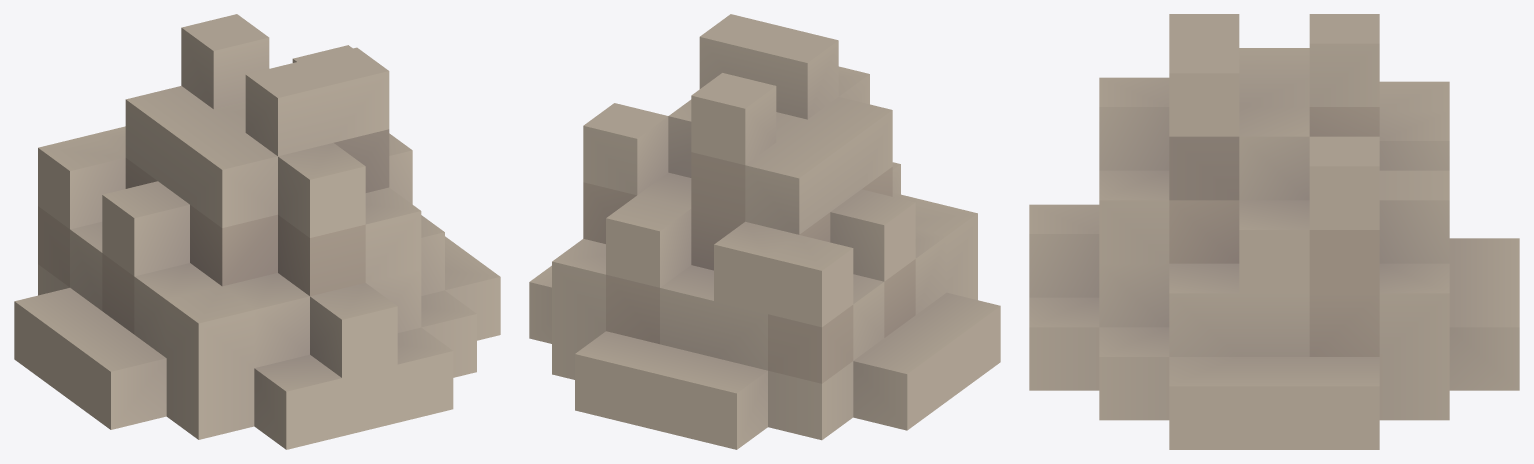
File: decor_crag_c.glb
The picture shows the model from 3 angles, left to right: view 1: azimuth 30°, elevation 25°; view 2: azimuth 150°, elevation 25°; view 3: azimuth 270°, elevation 25°; orthographic projection. The views are drawn at different scales.
Parts seen in each view (by area): view 1: decor_crag_c; view 2: decor_crag_c; view 3: decor_crag_c.
Boxes of the visible parts, x1,y1,x2,y2 form: decor_crag_c: (14, 14, 500, 449); decor_crag_c: (529, 14, 1000, 449); decor_crag_c: (1029, 14, 1519, 449).
Bounding box in the file's own units: 0.875 × 0.625 × 0.875.
